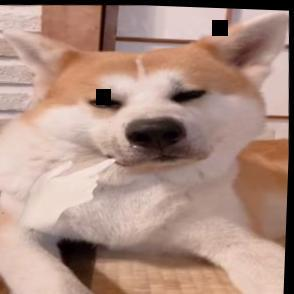nasal_discharge: (124, 122, 152, 151)
